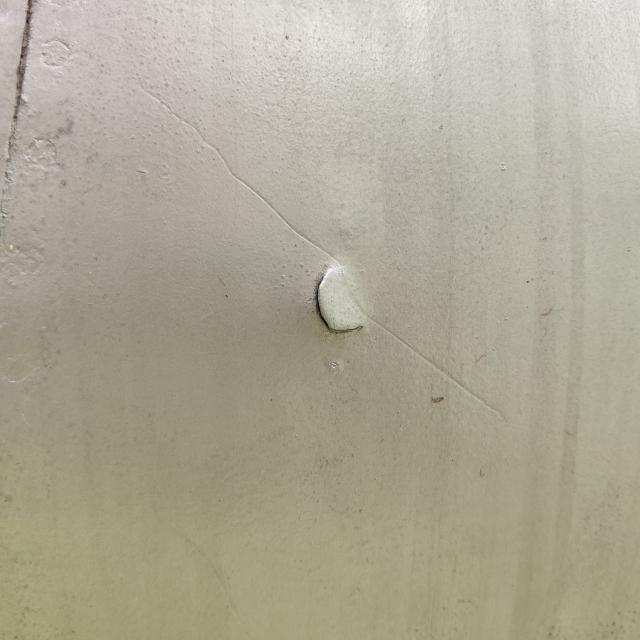crack: (288, 243, 384, 348)
